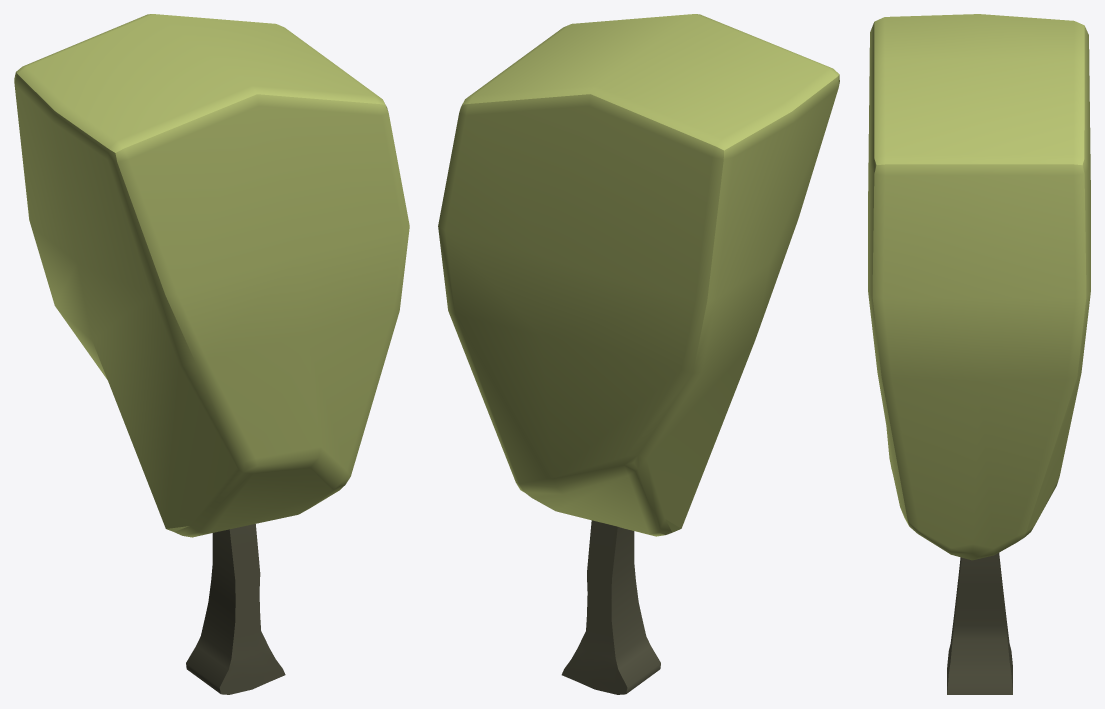
Rendered from Tree1.fbx.
The picture shows the model from 3 angles, left to right: view 1: azimuth 30°, elevation 25°; view 2: azimuth 150°, elevation 25°; view 3: azimuth 270°, elevation 25°; orthographic projection. The views are drawn at different scales.
Visible parts, largest first — view 1: ForEdit:pasted__pCube4, ForEdit:pasted__pCube1; view 2: ForEdit:pasted__pCube4, ForEdit:pasted__pCube1; view 3: ForEdit:pasted__pCube4, ForEdit:pasted__pCube1.
Part boxes in pixels (x1,y1,x2,y2): ForEdit:pasted__pCube4: (14,14,409,537); ForEdit:pasted__pCube1: (186,524,285,694); ForEdit:pasted__pCube4: (438,14,839,536); ForEdit:pasted__pCube1: (561,520,660,694); ForEdit:pasted__pCube4: (868,14,1090,560); ForEdit:pasted__pCube1: (947,553,1012,694).
Bounding box in the file's own units: 2.19 × 4.36 × 1.44.
